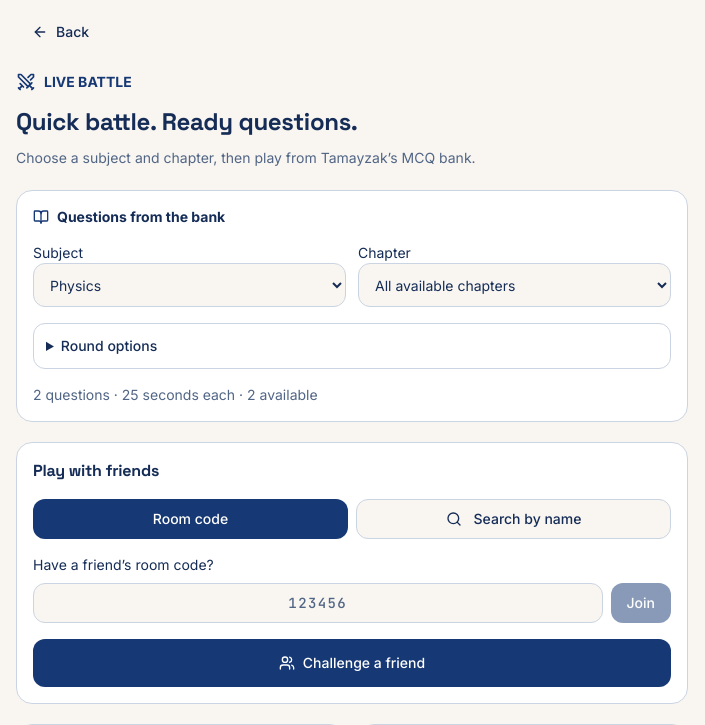
creates a friend room in one click and joins a code without bank dependencies
The image size is (705, 725).
Later steps or results of the test are not shown.
Click the button "Challenge a friend".
click(352, 663)  # box 33,639 -> 671,687
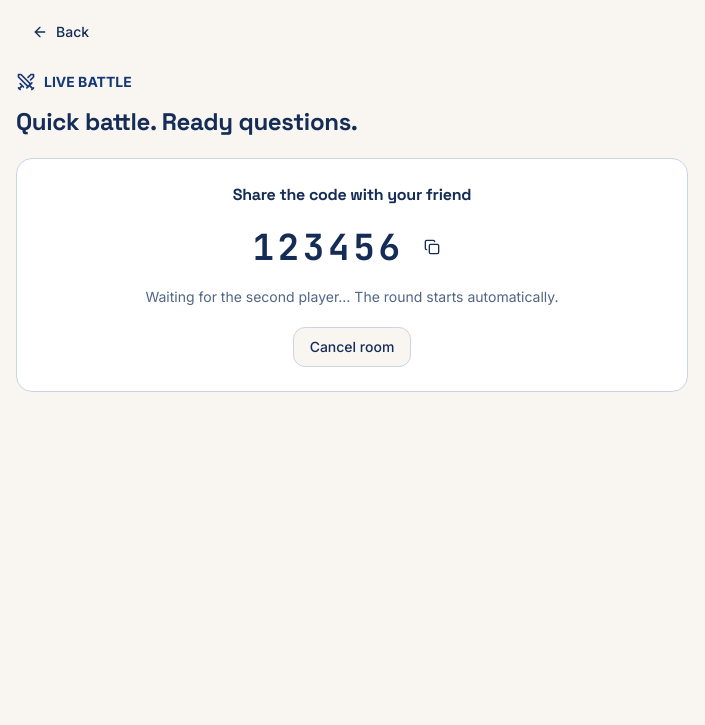
Expected: the text "123456" is shown, 252,227 -> 404,267
